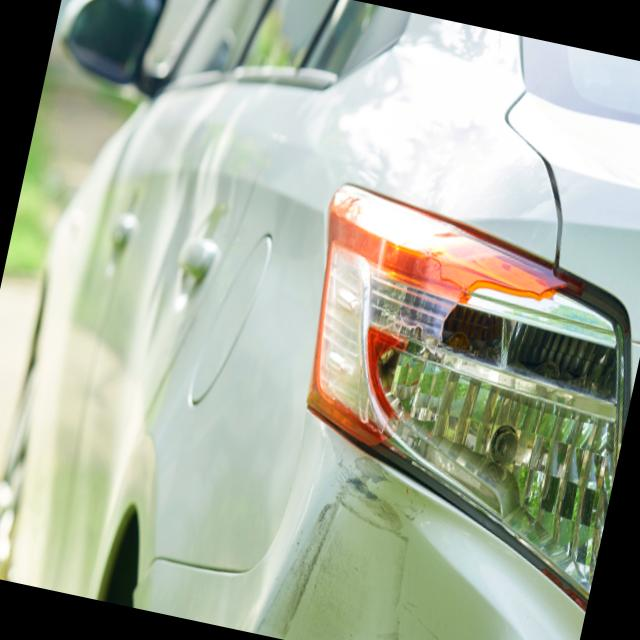Cabossage: (254, 475, 598, 640)
Dechirure: (508, 144, 595, 277)
Rayure: (272, 442, 488, 640)
